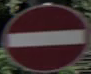No entry: (13, 7, 85, 64)
